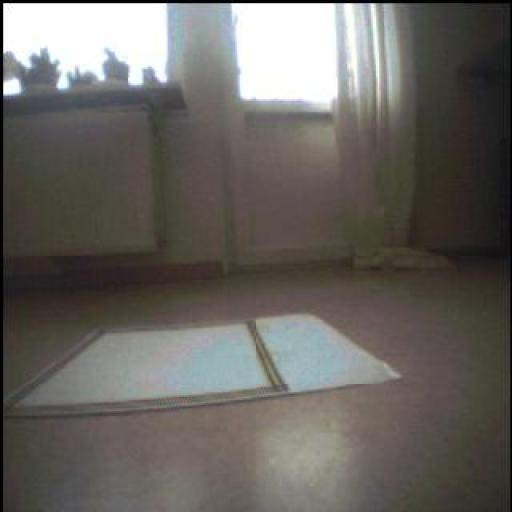Pad: (7, 312, 401, 415)
